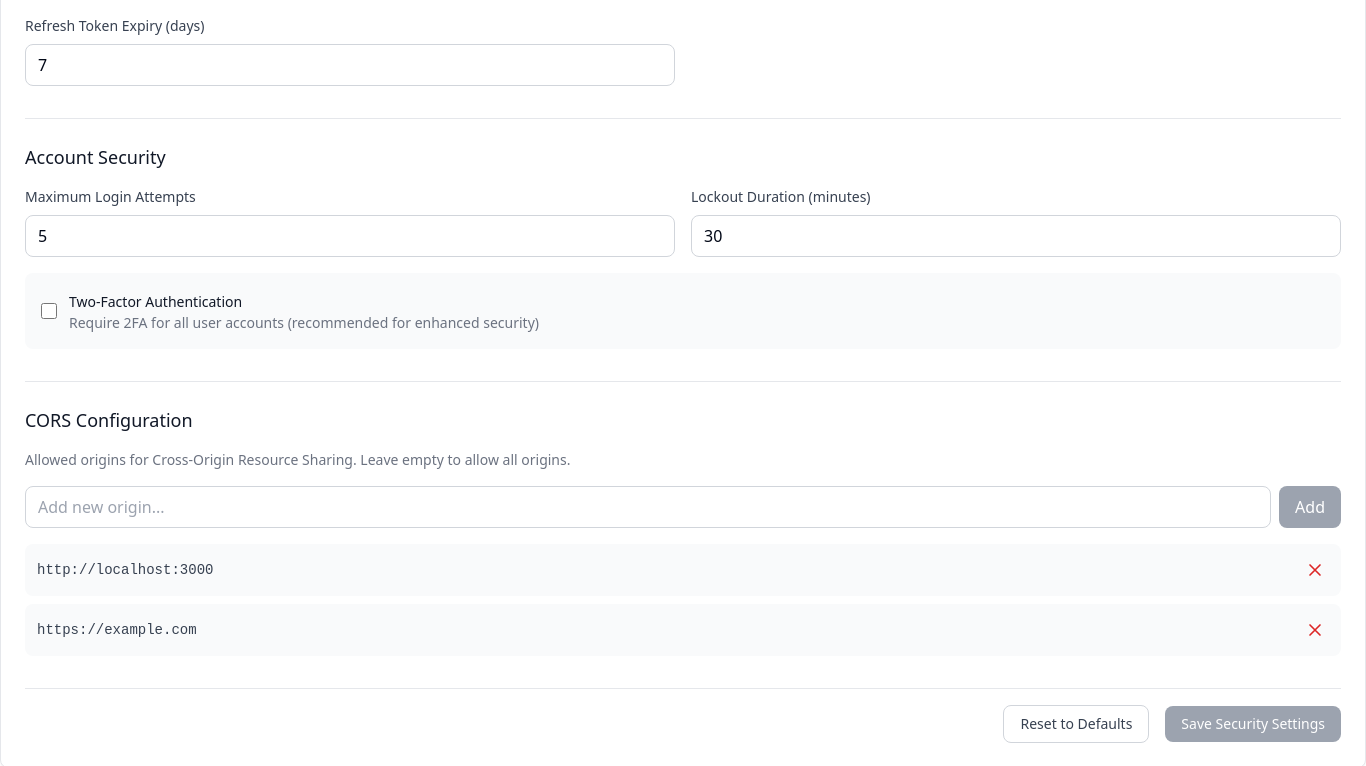
Test: SecuritySettings › allows adding new CORS origin
(page scrolled)
Type "https://new-origin.com" into the field with placeholder "Add new origin..." at (648, 507), box [25, 486, 1271, 528]
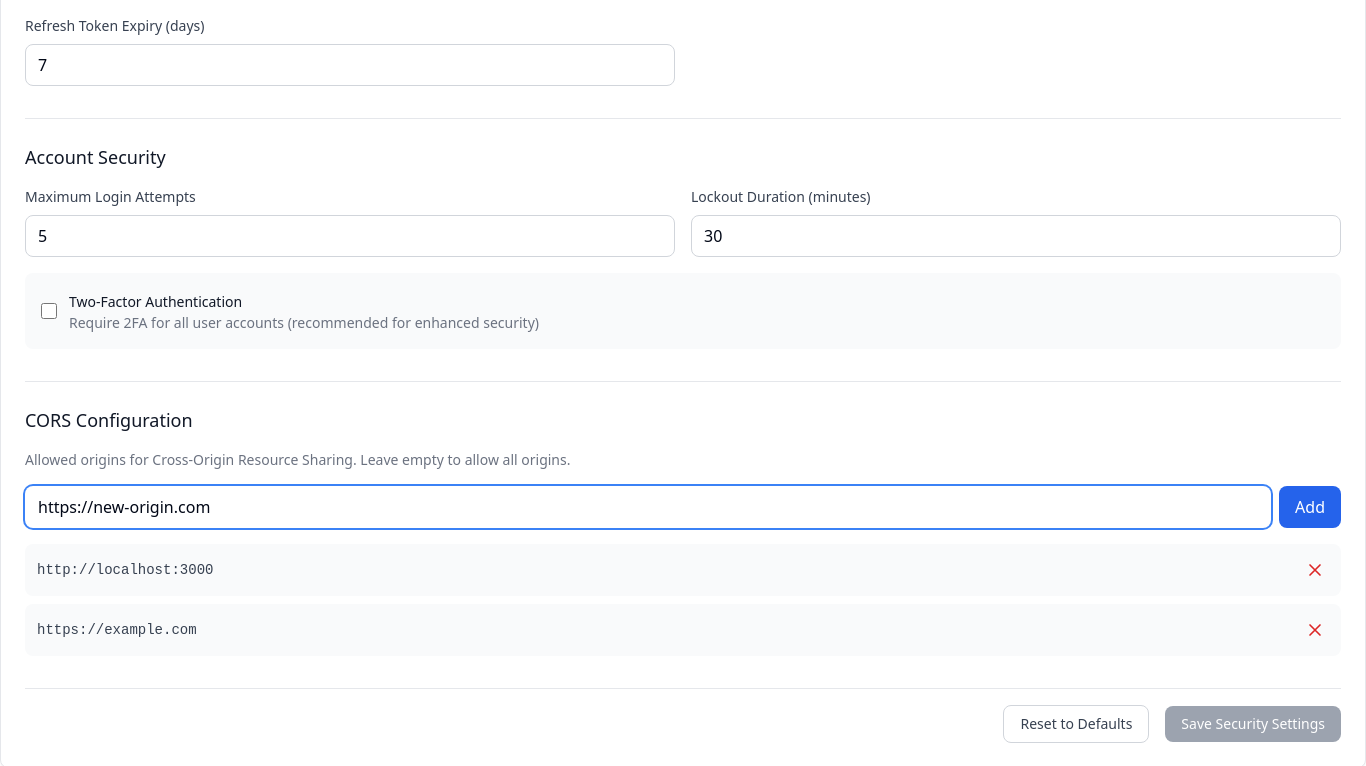
Click the button "Add" at (1310, 507), box [1279, 486, 1341, 528]
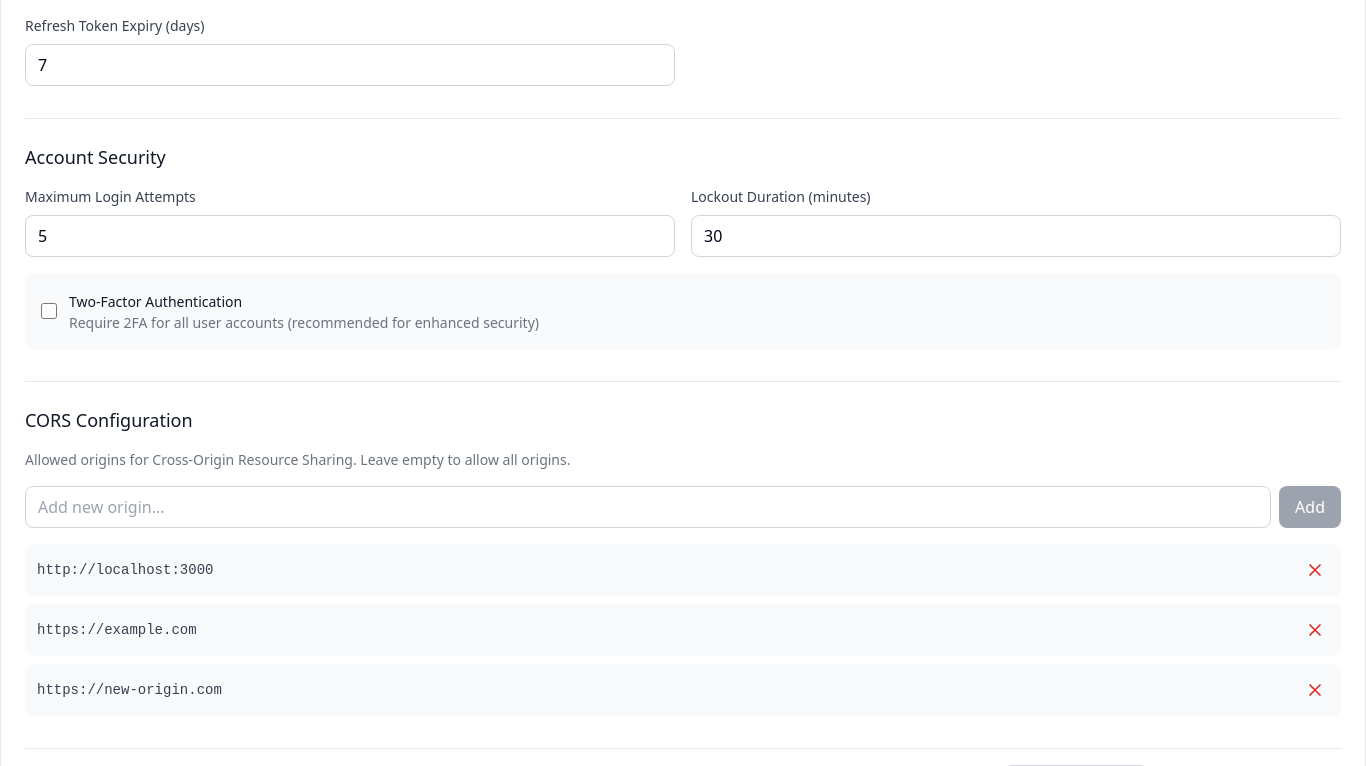
Now the text "https://new-origin.com" is shown, box [37, 680, 222, 700]
